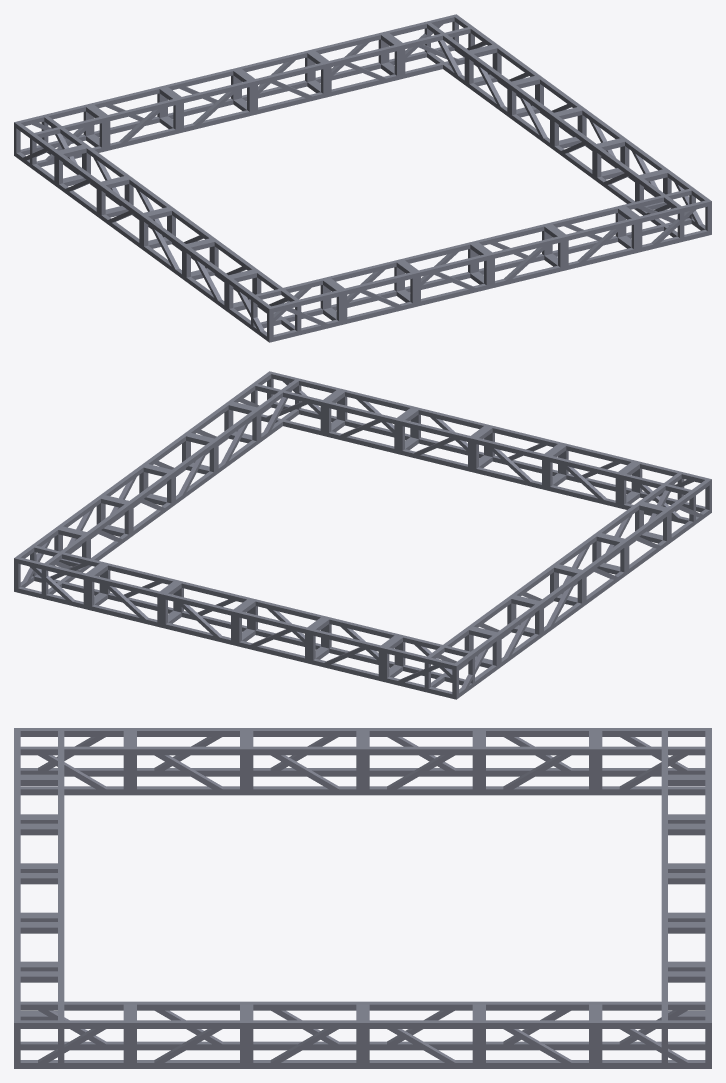
Rendered from Arena skeleton.fbx.
3 views of the same model, one above another, from view 1: azimuth 30°, elevation 25°; view 2: azimuth 150°, elevation 25°; view 3: azimuth 270°, elevation 25° (orthographic). The views are drawn at different scales.
Visible parts, largest first — view 1: skeleton; view 2: skeleton; view 3: skeleton.
Boxes of the visible parts, x1,y1,x2,y2 form: skeleton: [14, 14, 711, 342]; skeleton: [14, 371, 711, 699]; skeleton: [14, 728, 711, 1068].
Size of the model in its own units: 1590 by 115 by 1590.
